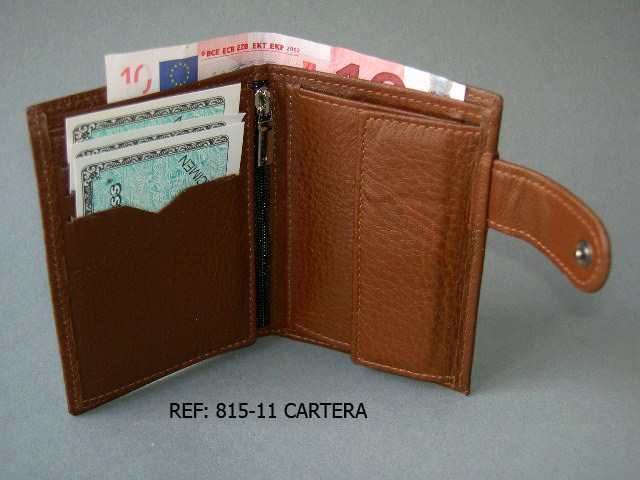monedero: (24, 31, 612, 418)
